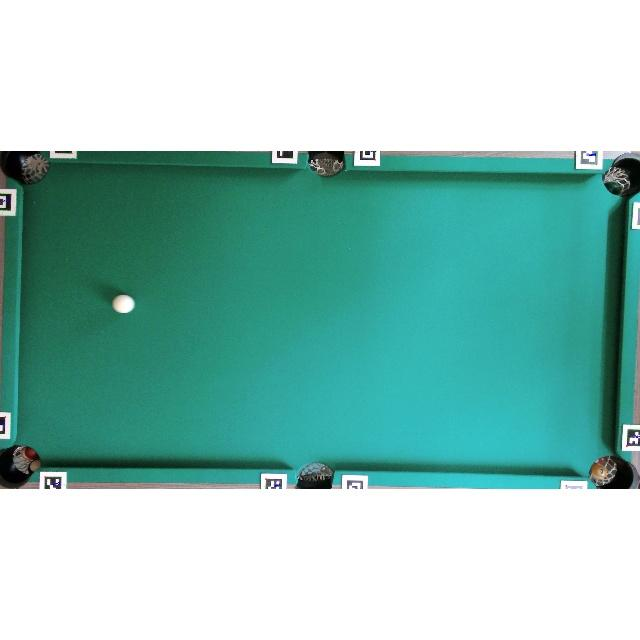cue ball: (110, 294, 135, 314)
